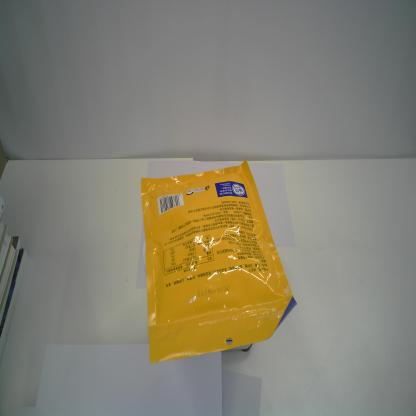Dried Fruit: (140, 158, 298, 363)
